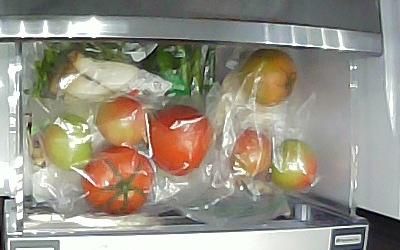tomato_vinyl: (79, 143, 155, 216), (145, 103, 214, 176), (236, 47, 297, 106), (41, 113, 93, 168), (94, 94, 147, 146), (268, 137, 317, 191), (230, 130, 274, 178)
